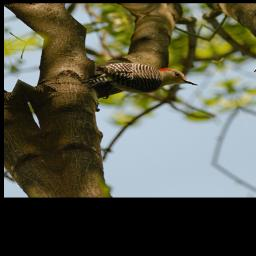Woodpecker: (77, 47, 199, 110)
